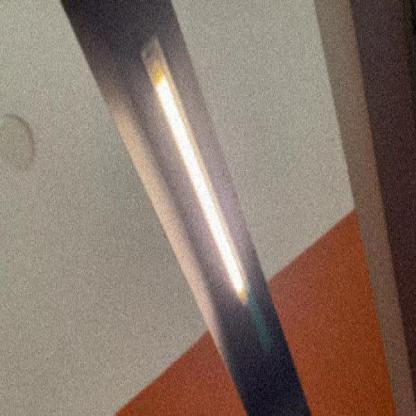light_on: (136, 30, 271, 320)
